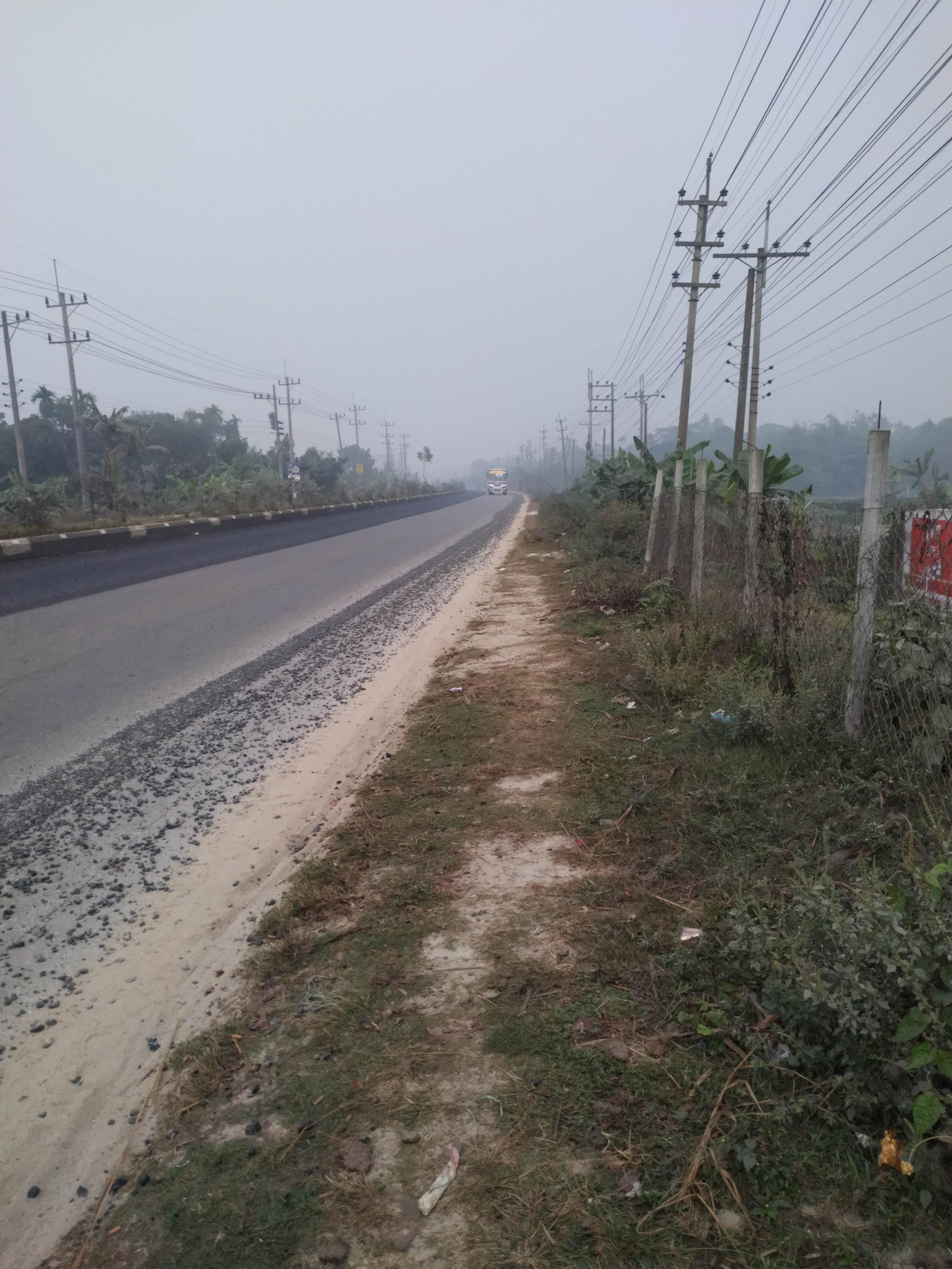Bus: (474, 460, 518, 510)
